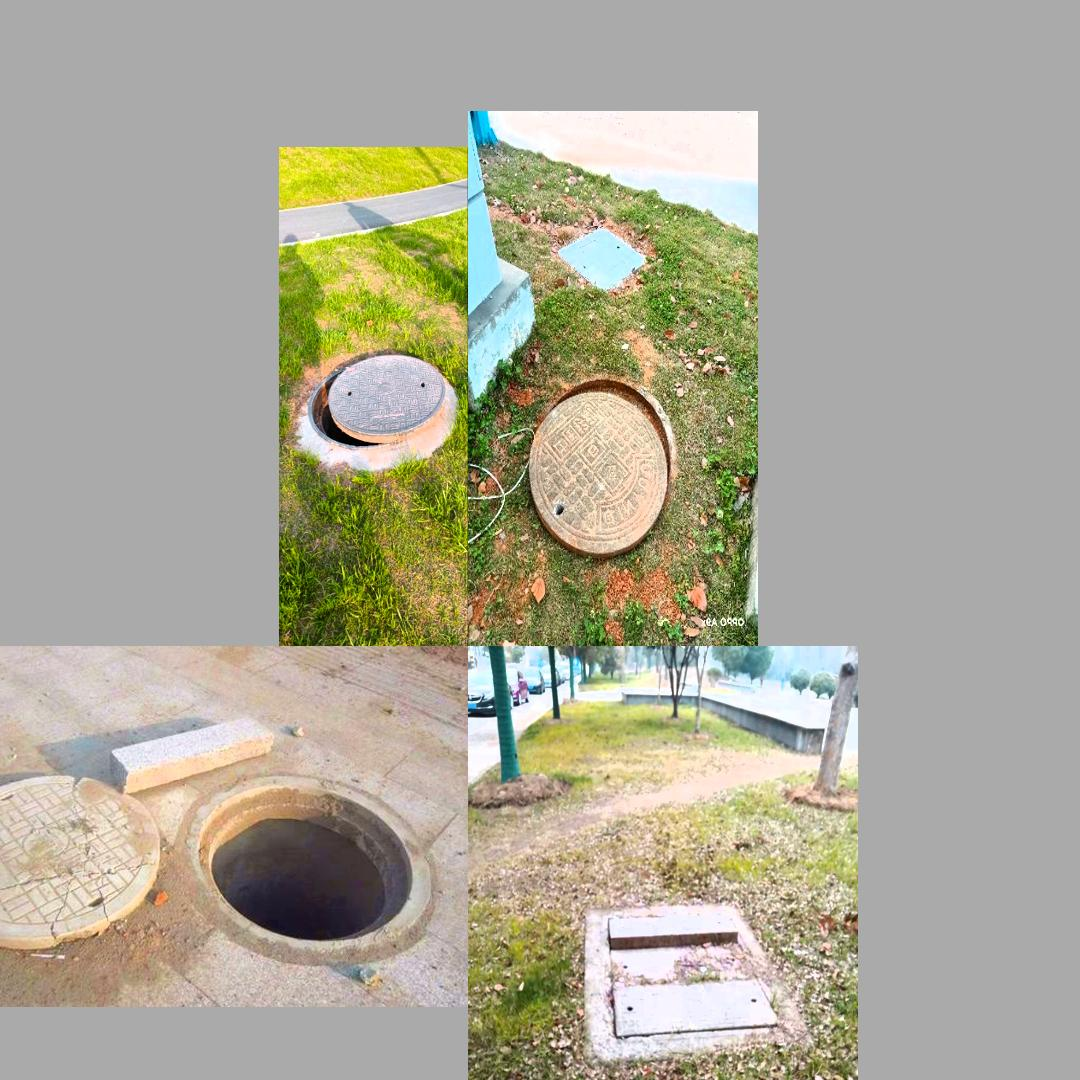uncovered: (0, 766, 435, 956), (527, 371, 676, 557), (602, 908, 781, 1037), (306, 352, 447, 451)
